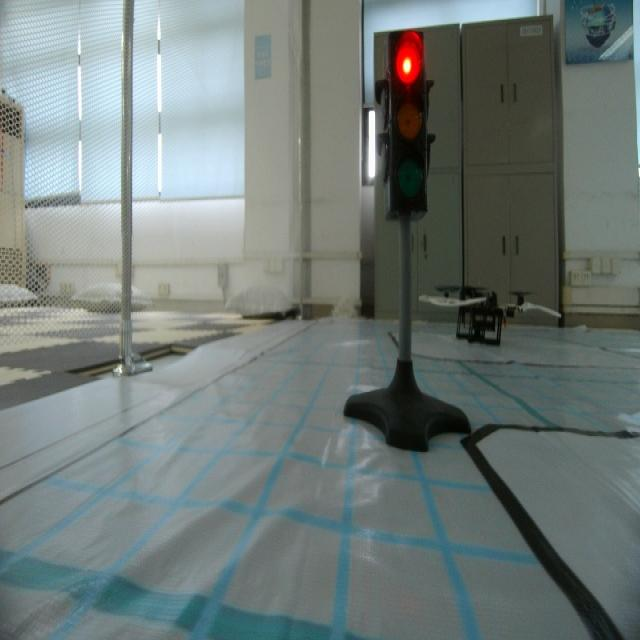red: (381, 30, 431, 232)
